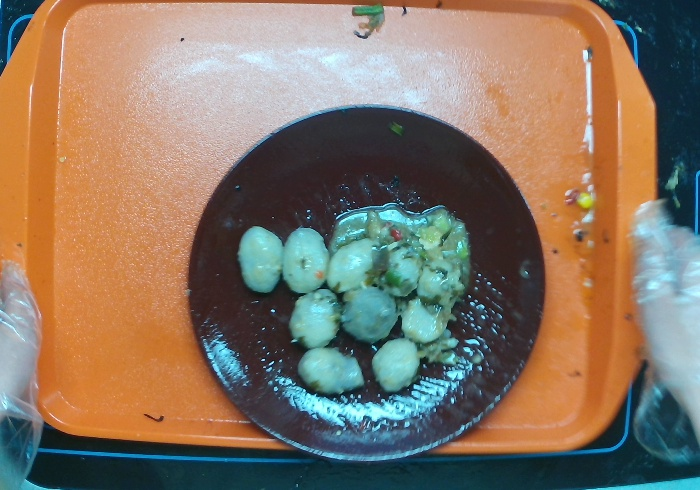HZYJPL-Ka_Fei_Yuan_Pan: (186, 107, 552, 463)
